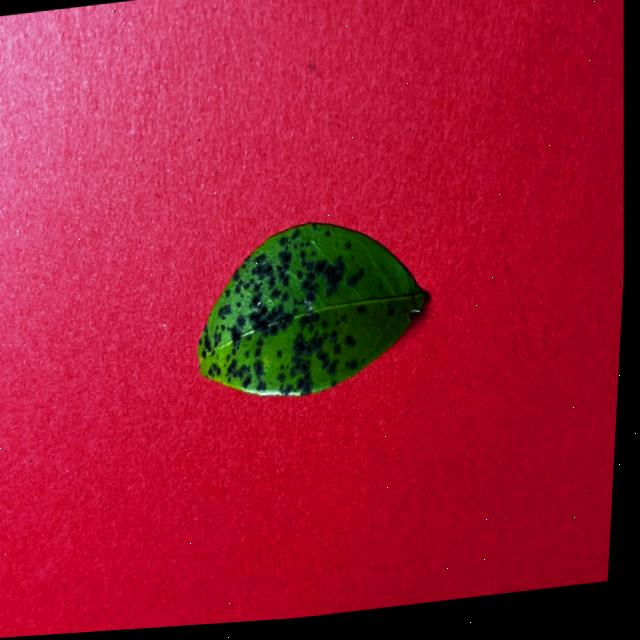sooty_mold: (197, 223, 427, 396)
